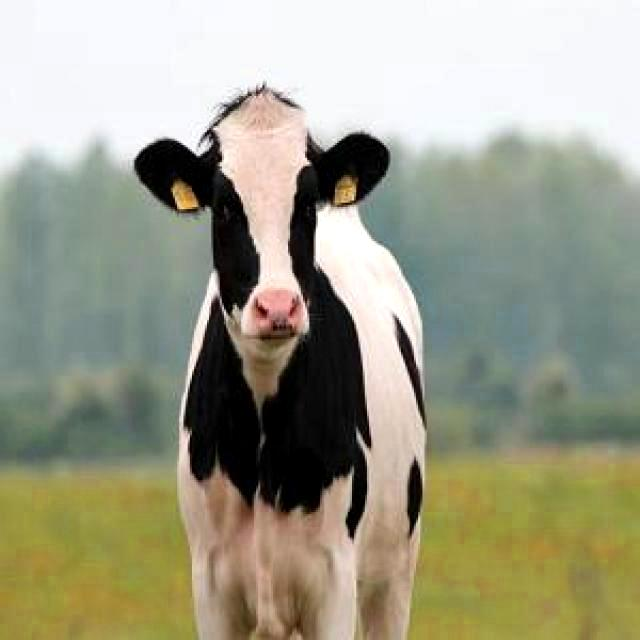COW: (135, 88, 425, 639)
